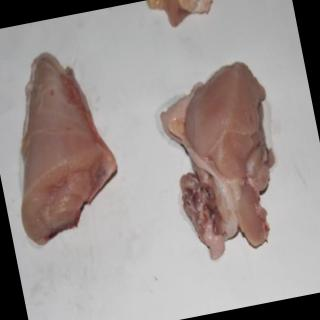Ayam: (152, 56, 296, 265), (1, 42, 129, 248), (145, 1, 224, 32)
